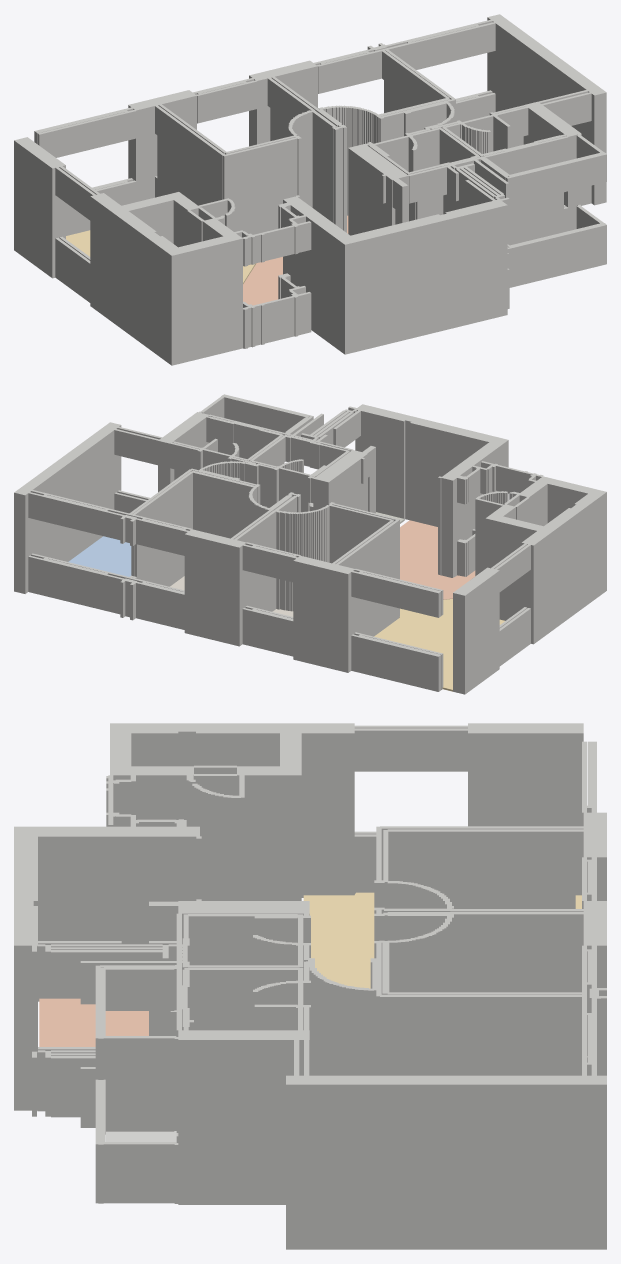
3 views of the same model, one above another, from view 1: azimuth 30°, elevation 25°; view 2: azimuth 150°, elevation 25°; view 3: azimuth 270°, elevation 25° (orthographic). The views are drawn at different scales.
Parts seen in each view (by area): view 1: walls, room:kitchen:3, room:living:0; view 2: walls, room:kitchen:3, room:living:0, room:bedroom:1; view 3: walls, room:living:0, room:kitchen:3, room:ledge:7.
Part boxes in pixels (x1,y1,x2,y2): walls: [14, 14, 606, 365]; room:kitchen:3: [243, 215, 348, 305]; room:living:0: [66, 230, 256, 283]; walls: [14, 394, 606, 694]; room:kitchen:3: [400, 520, 475, 599]; room:living:0: [374, 599, 504, 691]; room:bedroom:1: [68, 536, 131, 576]; walls: [14, 723, 606, 1249]; room:living:0: [303, 892, 581, 988]; room:kitchen:3: [39, 998, 148, 1046]; room:ledge:7: [106, 1131, 176, 1142].
Bounding box in the file's own units: 13.16 × 2.8 × 9.13.
